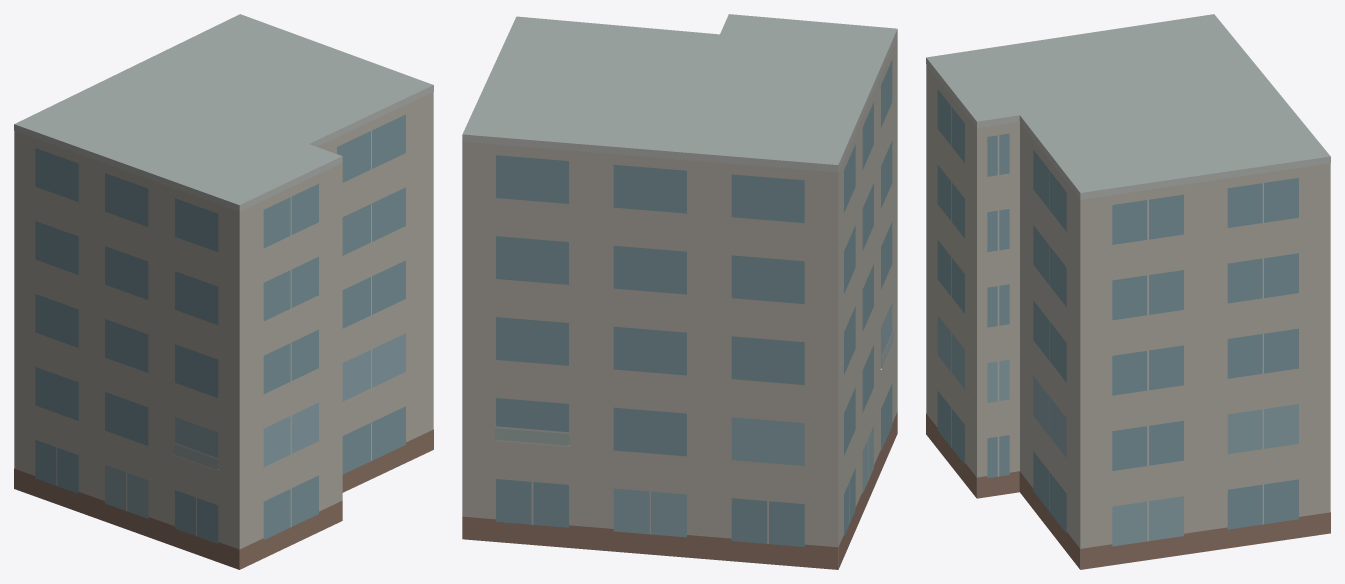
File: survey-upis-32881677.glb
The picture shows the model from 3 angles, left to right: view 1: azimuth 30°, elevation 25°; view 2: azimuth 150°, elevation 25°; view 3: azimuth 270°, elevation 25°; orthographic projection. The views are drawn at different scales.
Visible parts, largest first — view 1: survey-upis-32881677.tmp; view 2: survey-upis-32881677.tmp; view 3: survey-upis-32881677.tmp.
Boxes of the visible parts, bbox=[...] form: survey-upis-32881677.tmp: bbox=[14, 14, 433, 569]; survey-upis-32881677.tmp: bbox=[462, 14, 897, 569]; survey-upis-32881677.tmp: bbox=[926, 14, 1330, 569].
Size of the model in its own units: 13.86 by 13.6 by 13.24.
